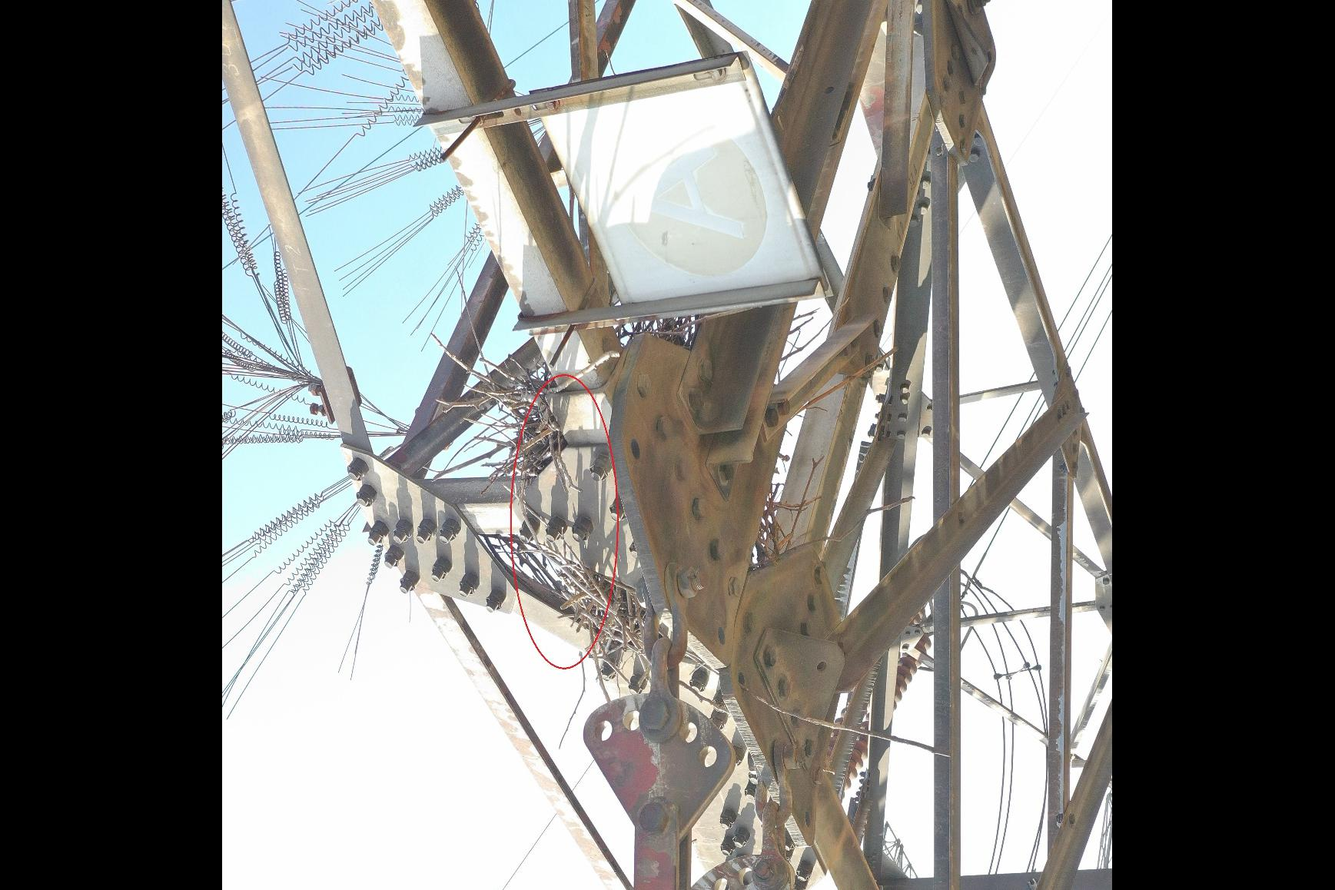nest: (423, 330, 650, 682)
